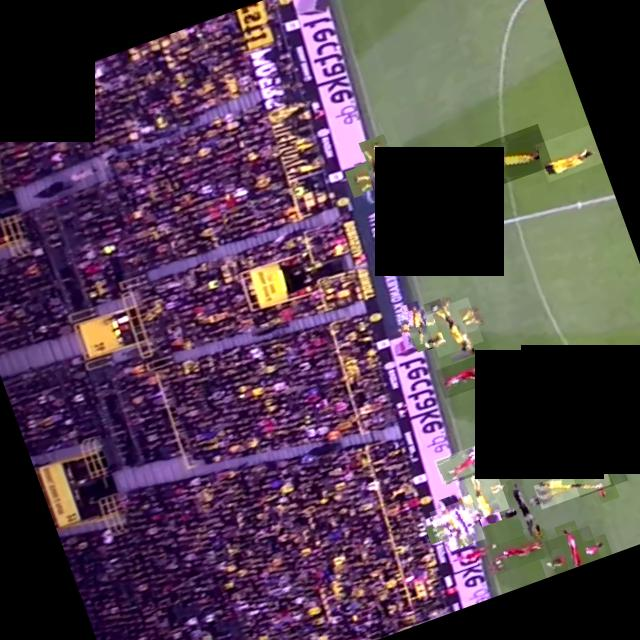ball: (422, 300, 443, 316)
soccer-player: (454, 124, 552, 196), (418, 182, 488, 252), (349, 139, 416, 206), (562, 434, 628, 498), (534, 125, 603, 183), (532, 461, 610, 510), (422, 297, 483, 358), (435, 349, 505, 399), (482, 528, 552, 576), (428, 498, 484, 554), (455, 468, 509, 523), (496, 481, 550, 535), (544, 526, 600, 574), (434, 441, 496, 484), (442, 536, 503, 575), (394, 304, 441, 350)
